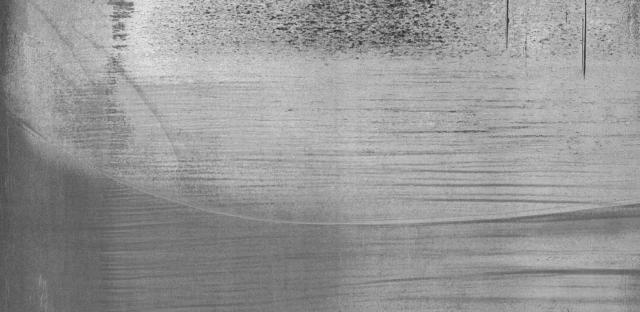waist_folding: (94, 70, 616, 295)
